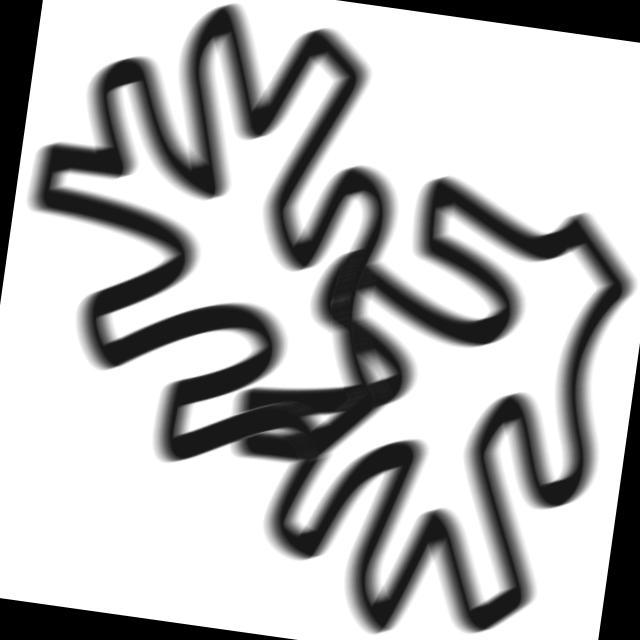coral: (1, 1, 448, 506), (192, 145, 640, 640)
